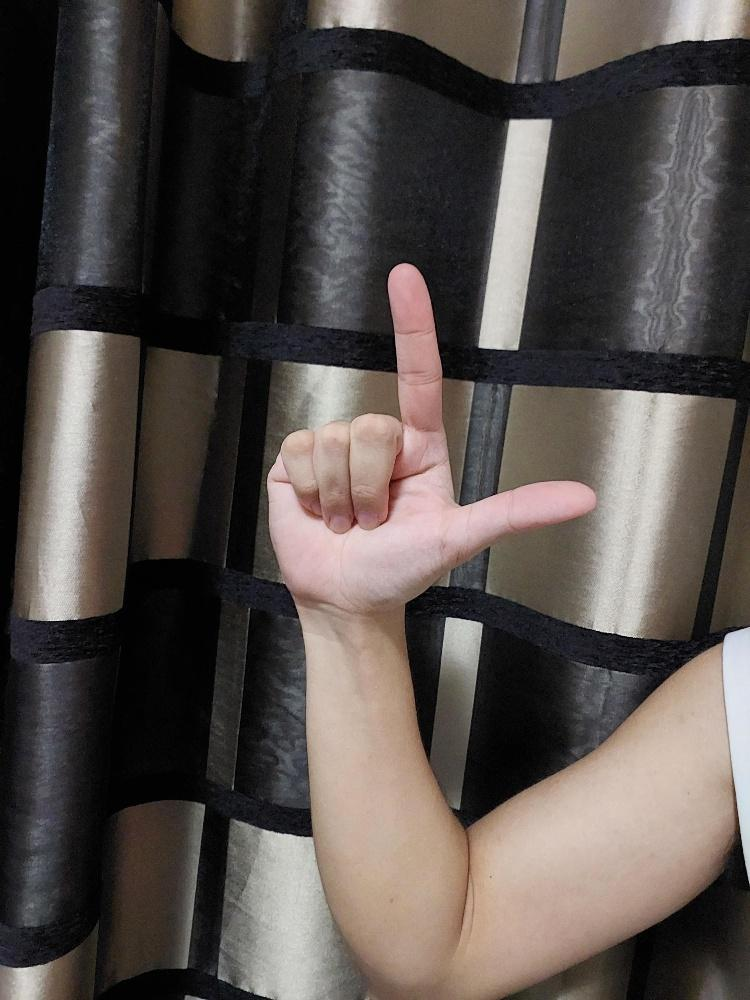l: (263, 259, 600, 615)
